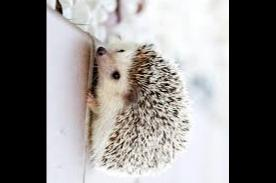Non_Gorille: (81, 21, 207, 182)
